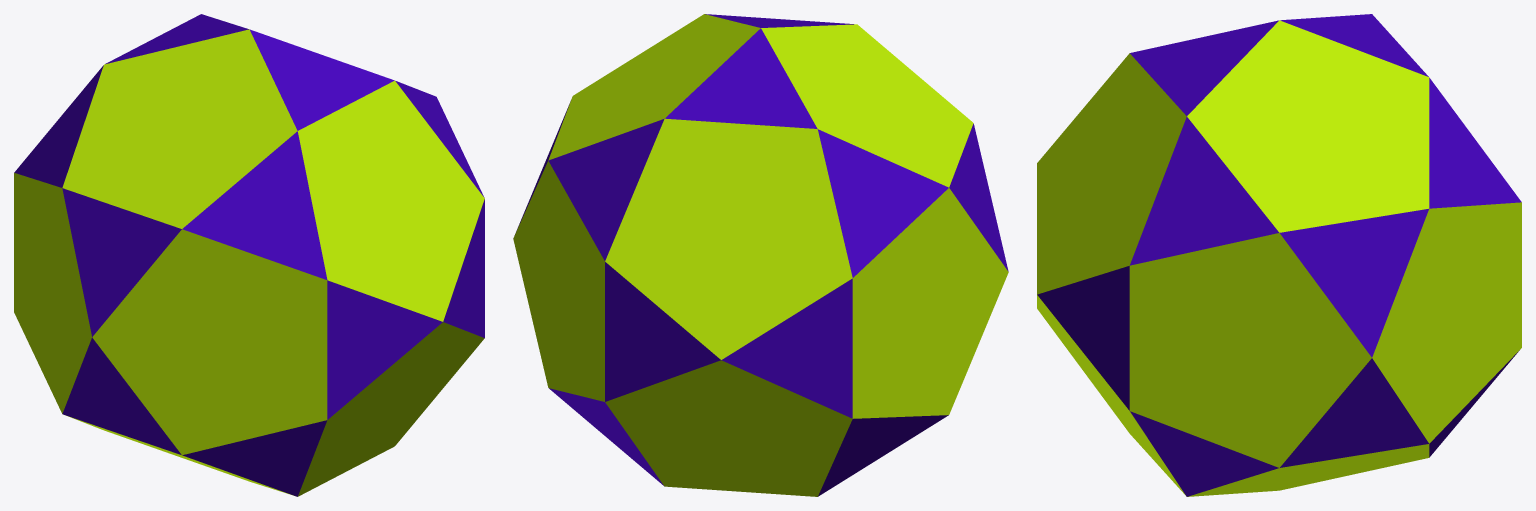
File: icosidodecahedron.fbx
The picture shows the model from 3 angles, left to right: view 1: azimuth 30°, elevation 25°; view 2: azimuth 150°, elevation 25°; view 3: azimuth 270°, elevation 25°; orthographic projection. The views are drawn at different scales.
Visible parts, largest first — view 1: polyhedronisme-aD; view 2: polyhedronisme-aD; view 3: polyhedronisme-aD.
Part boxes in pixels (bbox=[...]): polyhedronisme-aD: bbox=[14, 14, 484, 496]; polyhedronisme-aD: bbox=[513, 14, 1008, 496]; polyhedronisme-aD: bbox=[1037, 14, 1521, 496].
Size of the model in its own units: 187 by 200 by 187.
